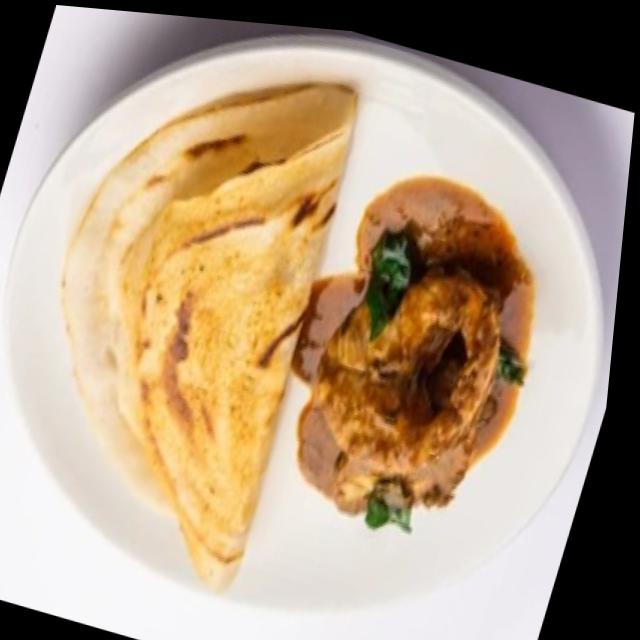DOSA: (62, 87, 357, 590)
FISH CURRY: (293, 180, 533, 521)
